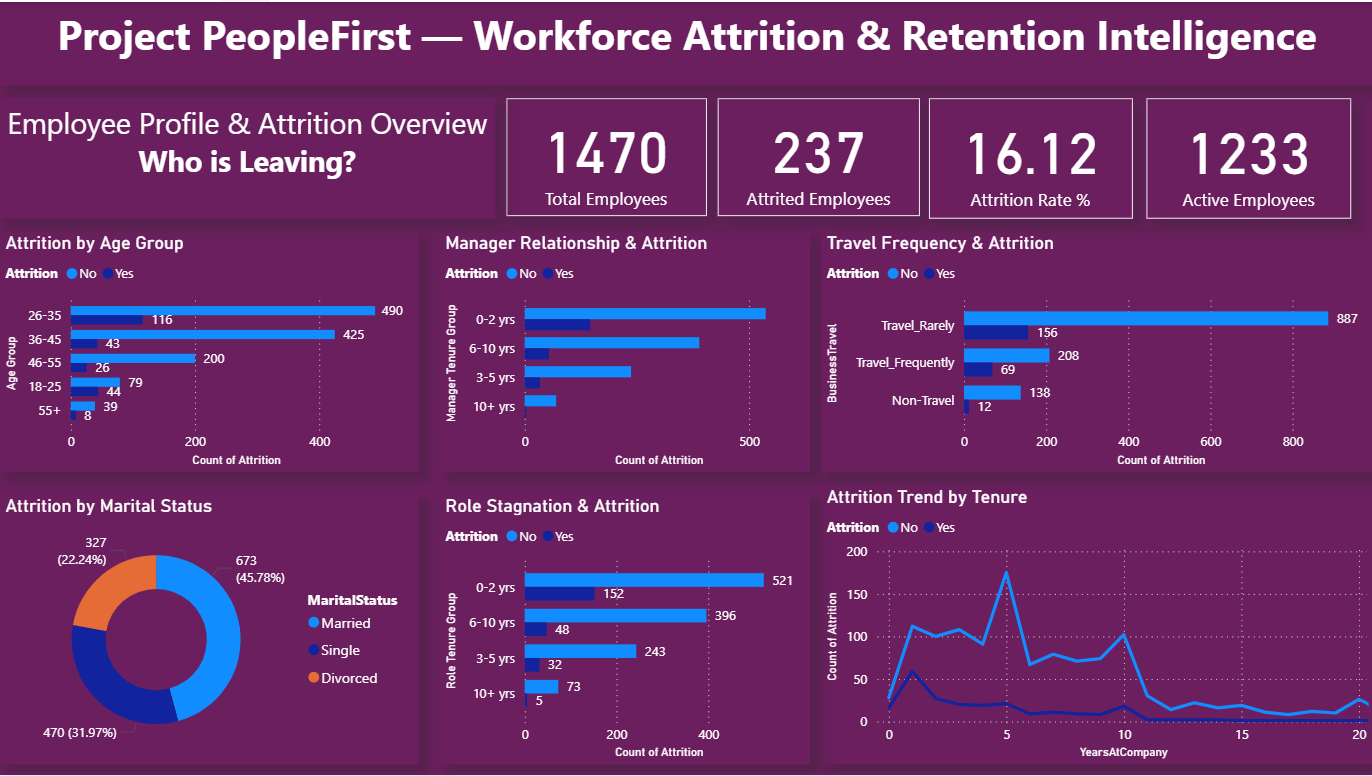

The dashboard page shown, as its layout file describes it:
{"tool":"powerbi","page":{"name":"👤 Who Is Leaving?","canvas":[1280,720],"ordinal":0},"visuals":[{"type":"clusteredBarChart","title":"Attrition by Age Group","fields":{"Category":["People_first.Age Group"],"Y":["CountNonNull(People_first.Attrition)"],"Series":["People_first.Attrition"]},"box":[1.2,214,389.5,223.3],"z":0},{"type":"donutChart","title":"Attrition by Marital Status","fields":{"Category":["People_first.MaritalStatus"],"Y":["CountNonNull(People_first.Attrition)"]},"box":[1.2,458.1,389.5,251.2],"z":1000},{"type":"lineChart","title":"Attrition Trend by Tenure","fields":{"Category":["People_first.YearsAtCompany"],"Y":["CountNonNull(People_first.Attrition)"],"Series":["People_first.Attrition"]},"box":[765.1,450,515.1,259.3],"z":2000},{"type":"clusteredBarChart","title":"Role Stagnation & Attrition","fields":{"Category":["People_first.Role Tenure Group"],"Y":["CountNonNull(People_first.Attrition)"],"Series":["People_first.Attrition"]},"box":[410.5,458.1,344.2,251.2],"z":3000},{"type":"clusteredBarChart","title":"Manager Relationship & Attrition","fields":{"Category":["People_first.Manager Tenure Group"],"Y":["CountNonNull(People_first.Attrition)"],"Series":["People_first.Attrition"]},"box":[410.5,214,344.2,223.3],"z":4000},{"type":"clusteredBarChart","title":"Travel Frequency & Attrition","fields":{"Category":["People_first.BusinessTravel"],"Y":["CountNonNull(People_first.Attrition)"],"Series":["People_first.Attrition"]},"box":[765.1,214,515.1,223.3],"z":5000},{"type":"card","fields":{"Values":["People_first.Total Employees"]},"box":[472.1,89.5,186,109.3],"z":6000},{"type":"card","fields":{"Values":["People_first.Attrited Employees"]},"box":[668.6,89.5,188.4,109.3],"z":7000},{"type":"card","fields":{"Values":["People_first.Attrition Rate %"]},"box":[865.1,89.5,189.5,111.6],"z":8000},{"type":"card","fields":{"Values":["People_first.Active Employees"]},"box":[1067.4,89.5,190.7,111.6],"z":9000},{"type":"textbox","box":[0,0,1280.2,77.9],"z":10000},{"type":"textbox","box":[0,89.5,461.6,111.6],"z":11000}]}

Visuals, with their boxes in screenshot pixels (x1, y1, x2, y2), scaled from the page's 1280x720 canvas onto the 1372x776 screenshot:
"Attrition by Age Group" clusteredBarChart: [left=1, top=231, right=419, bottom=471]
"Attrition by Marital Status" donutChart: [left=1, top=494, right=419, bottom=764]
"Attrition Trend by Tenure" lineChart: [left=820, top=485, right=1371, bottom=764]
"Role Stagnation & Attrition" clusteredBarChart: [left=440, top=494, right=809, bottom=764]
"Manager Relationship & Attrition" clusteredBarChart: [left=440, top=231, right=809, bottom=471]
"Travel Frequency & Attrition" clusteredBarChart: [left=820, top=231, right=1371, bottom=471]
card - People_first.Total Employees: [left=506, top=96, right=705, bottom=214]
card - People_first.Attrited Employees: [left=717, top=96, right=919, bottom=214]
card - People_first.Attrition Rate %: [left=927, top=96, right=1130, bottom=217]
card - People_first.Active Employees: [left=1144, top=96, right=1349, bottom=217]
textbox: [left=0, top=0, right=1371, bottom=84]
textbox: [left=0, top=96, right=495, bottom=217]
